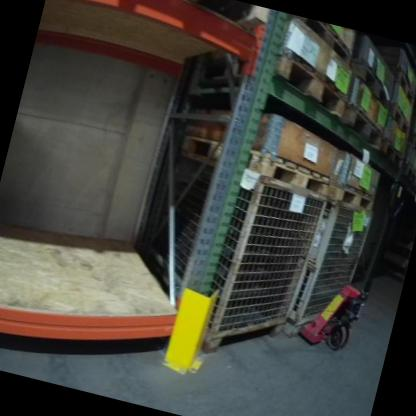pallet: (197, 32, 358, 121), (173, 129, 333, 200), (262, 10, 360, 67), (332, 98, 390, 154), (341, 59, 400, 110), (324, 177, 379, 216), (385, 101, 416, 138), (377, 140, 409, 173), (392, 72, 416, 110)
pallet_truck: (297, 159, 416, 363)
stillage: (117, 133, 334, 378), (279, 184, 389, 360)
